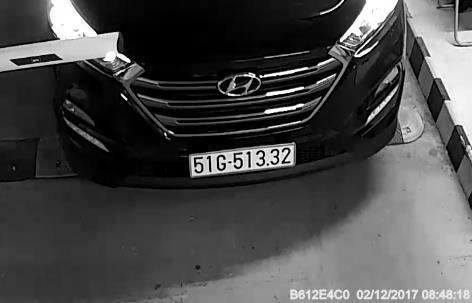License-plate: (176, 138, 307, 185)
